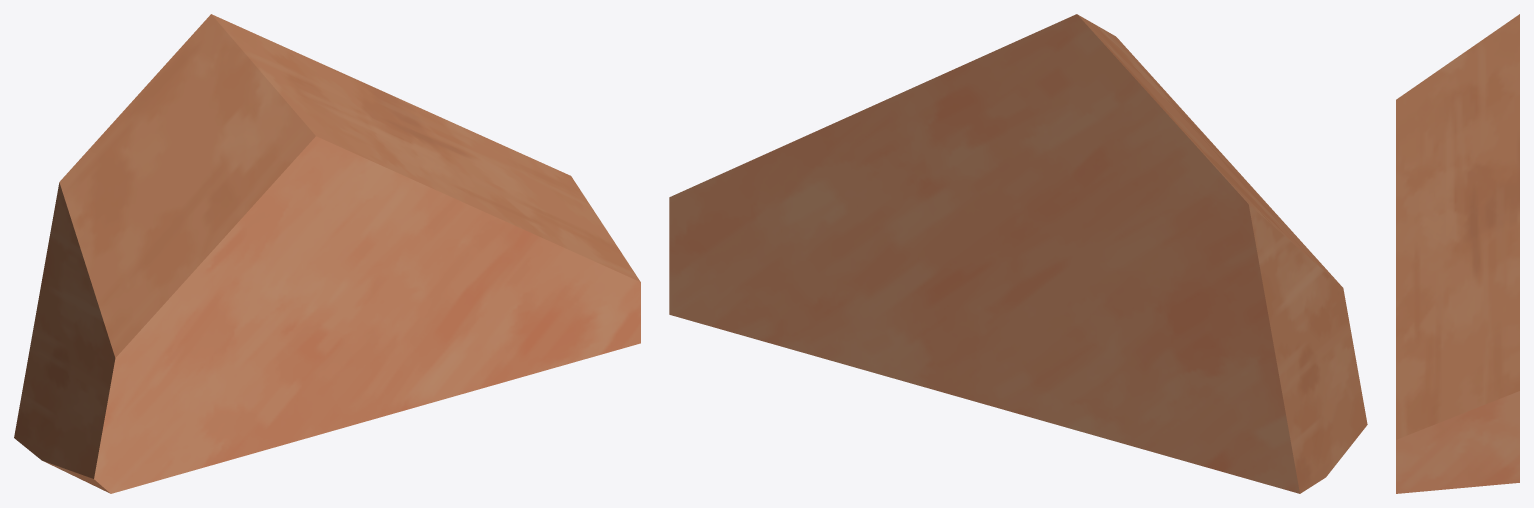
File: wall_upper_s07.fbx
3 views of the same model, side by side, from view 1: azimuth 30°, elevation 25°; view 2: azimuth 150°, elevation 25°; view 3: azimuth 270°, elevation 25° (orthographic). The views are drawn at different scales.
Visible parts, largest first — view 1: wall_upper_s07; view 2: wall_upper_s07; view 3: wall_upper_s07.
Part boxes in pixels (x1,y1,x2,y2): wall_upper_s07: (14, 14, 640, 493); wall_upper_s07: (669, 14, 1367, 493); wall_upper_s07: (1396, 14, 1519, 493).
Size of the model in its own units: 4.61 by 3.06 by 1.
